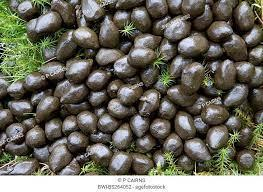Elk: (30, 11, 254, 166)
